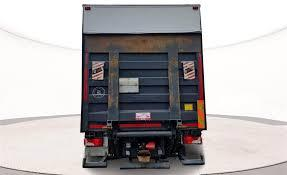truck: (75, 1, 213, 172)
